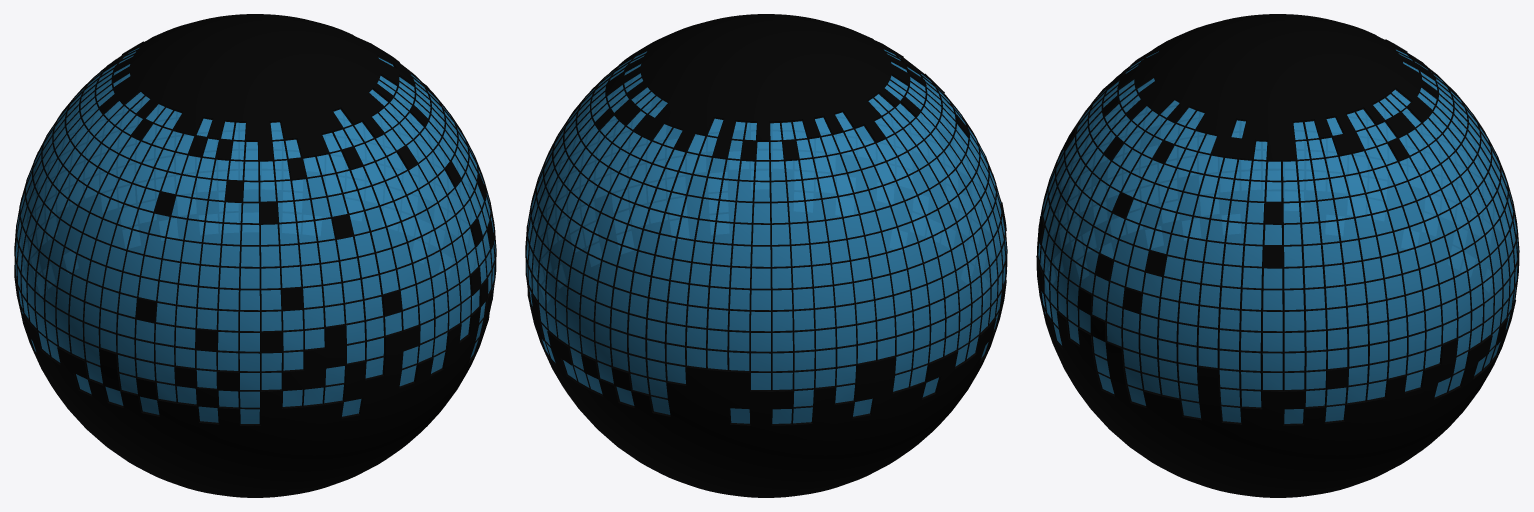
The model's file is yuan.fbx.
3 renders of one model, left to right at view 1: azimuth 30°, elevation 25°; view 2: azimuth 150°, elevation 25°; view 3: azimuth 270°, elevation 25°, orthographic.
Visible parts, largest first — view 1: Object002; view 2: Object002; view 3: Object002.
Boxes of the visible parts, x1,y1,x2,y2 form: Object002: [14, 14, 496, 497]; Object002: [525, 14, 1007, 497]; Object002: [1036, 14, 1519, 497].
Size of the model in its own units: 1400 by 1404 by 1401.
